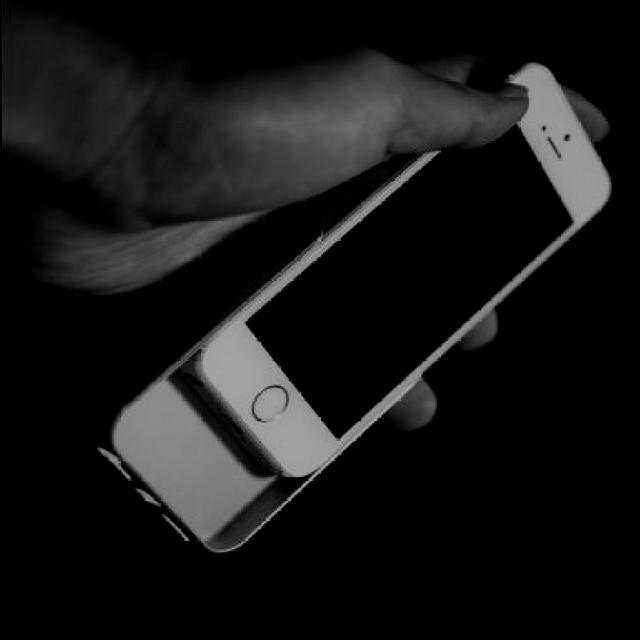fake: (176, 58, 612, 480)
